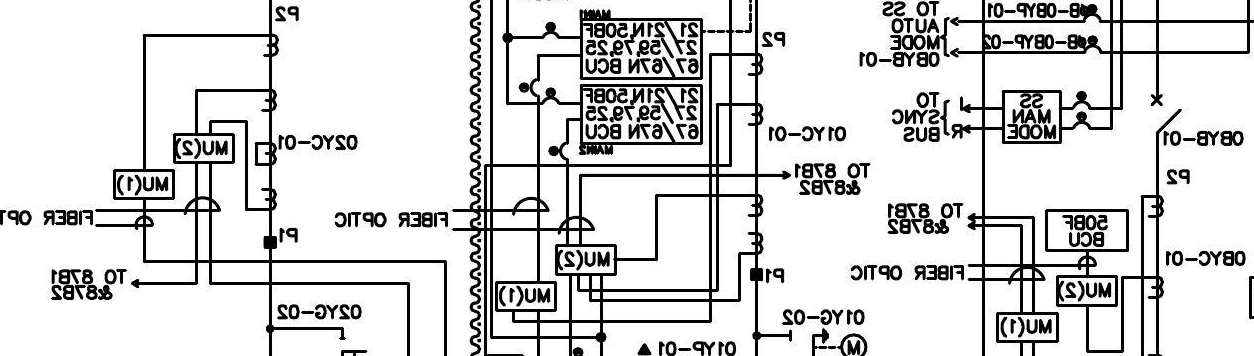115_breaker: (1151, 94, 1183, 134)
MU: (1055, 274, 1119, 308), (554, 244, 618, 277), (172, 132, 235, 165), (494, 281, 558, 313), (996, 312, 1059, 344), (112, 169, 175, 201)
ss_man_mode: (1001, 90, 1062, 145)
